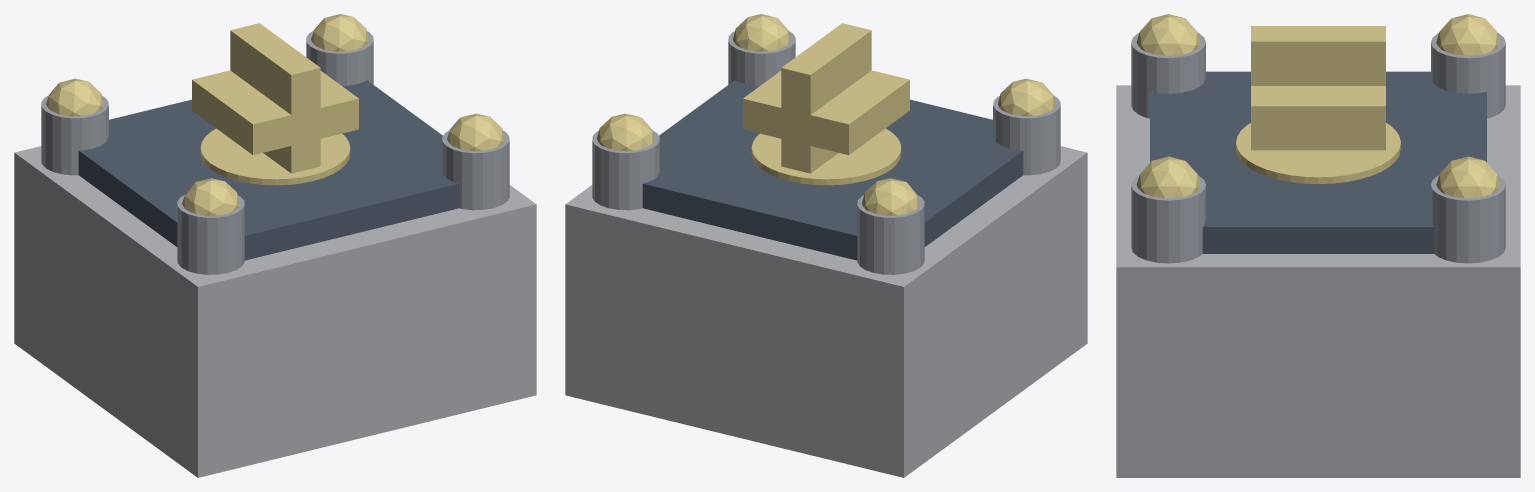
Rendered from nanobot-reparo-elite.glb.
The picture shows the model from 3 angles, left to right: view 1: azimuth 30°, elevation 25°; view 2: azimuth 150°, elevation 25°; view 3: azimuth 270°, elevation 25°; orthographic projection. The views are drawn at different scales.
Parts seen in each view (by area): view 1: part000, part001, part012, part011, part002, part005, part009, part003, part007, part008, part010, part004 (+1 smaller); view 2: part000, part001, part012, part011, part002, part003, part007, part005, part009, part010, part008, part006 (+1 smaller); view 3: part000, part001, part011, part012, part002, part007, part009, part003, part005, part008, part010, part004 (+1 smaller).
Boxes of the visible parts, x1,y1,x2,y2 form: part000: (14,146,536,477); part001: (78,80,459,260); part012: (192,70,358,155); part011: (230,23,320,173); part002: (200,128,350,185); part005: (177,194,244,274); part009: (442,130,509,210); part003: (41,95,108,175); part007: (306,30,373,85); part008: (311,14,368,51); part010: (447,113,504,151); part004: (46,78,103,116); part000: (565,146,1087,477); part001: (642,80,1023,260); part012: (743,70,909,155); part011: (781,23,871,173); part002: (751,128,901,185); part003: (857,194,924,274); part007: (592,130,659,210); part005: (993,95,1060,175); part009: (728,30,795,85); part010: (733,14,790,51); part008: (597,113,654,151); part006: (998,78,1055,116); part000: (1116,85,1520,477); part001: (1150,71,1486,253); part011: (1251,26,1385,150); part012: (1251,86,1385,140); part002: (1236,123,1400,183); part007: (1431,175,1505,263); part009: (1131,175,1205,263); part003: (1431,32,1505,118); part005: (1131,32,1205,118); part008: (1436,156,1500,198); part010: (1136,156,1200,198); part004: (1436,14,1500,55).
Bounding box in the file's own units: 1.15 × 1.04 × 1.08.
